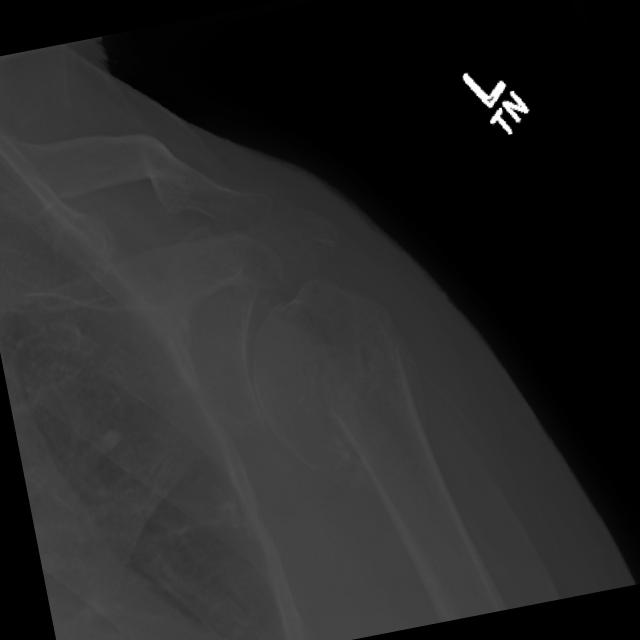shoulder fracture: (106, 121, 228, 243)
